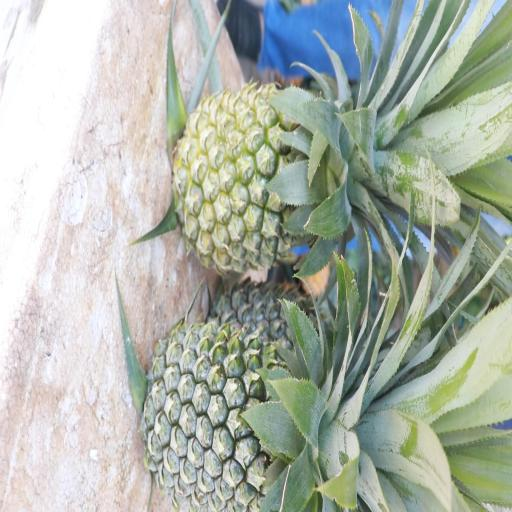Pineapple - v8 v1: (180, 84, 364, 274)
